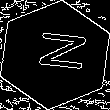N_W: (25, 32, 85, 78)
